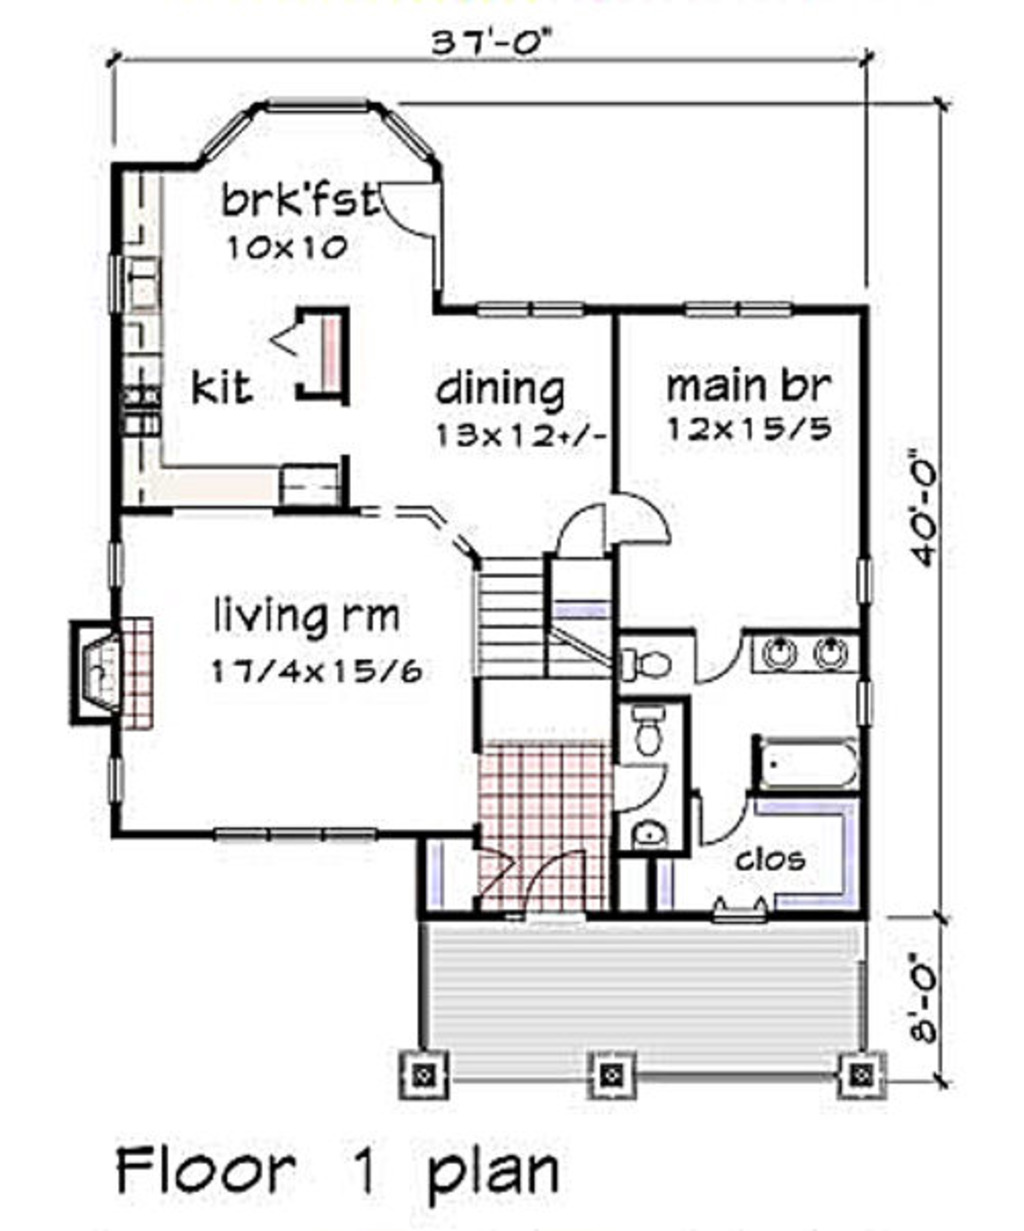door: (370, 170, 455, 245), (520, 839, 587, 916), (607, 481, 674, 549), (682, 622, 747, 689), (605, 756, 676, 810), (555, 504, 607, 569), (695, 783, 747, 849)
large_sink: (618, 689, 682, 764), (618, 635, 680, 689)
small_sink: (753, 631, 860, 681), (610, 814, 678, 852)
tub: (751, 733, 864, 801)
twin_sink: (118, 254, 166, 314)
window: (468, 291, 597, 324), (210, 820, 378, 845), (678, 295, 789, 320), (855, 554, 874, 606)
